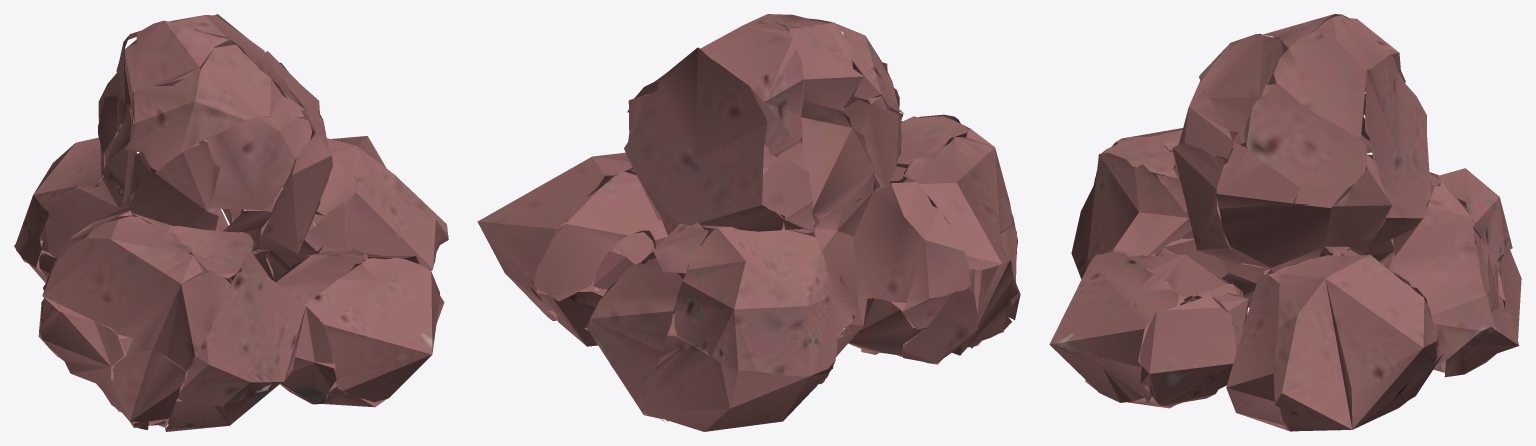
The model's file is loc_sy_boulder.glb.
The picture shows the model from 3 angles, left to right: view 1: azimuth 30°, elevation 25°; view 2: azimuth 150°, elevation 25°; view 3: azimuth 270°, elevation 25°; orthographic projection. The views are drawn at different scales.
Parts seen in each view (by area): view 1: tripo_node_17dc9aa8-a6e4-4f45-b23c-dab1c30e172c; view 2: tripo_node_17dc9aa8-a6e4-4f45-b23c-dab1c30e172c; view 3: tripo_node_17dc9aa8-a6e4-4f45-b23c-dab1c30e172c.
Part boxes in pixels (x1,y1,x2,y2): tripo_node_17dc9aa8-a6e4-4f45-b23c-dab1c30e172c: [14, 14, 448, 431]; tripo_node_17dc9aa8-a6e4-4f45-b23c-dab1c30e172c: [477, 14, 1020, 431]; tripo_node_17dc9aa8-a6e4-4f45-b23c-dab1c30e172c: [1049, 14, 1521, 431].
Bounding box in the file's own units: 2.15 × 1.6 × 2.07.
1 material, 1 textured.
